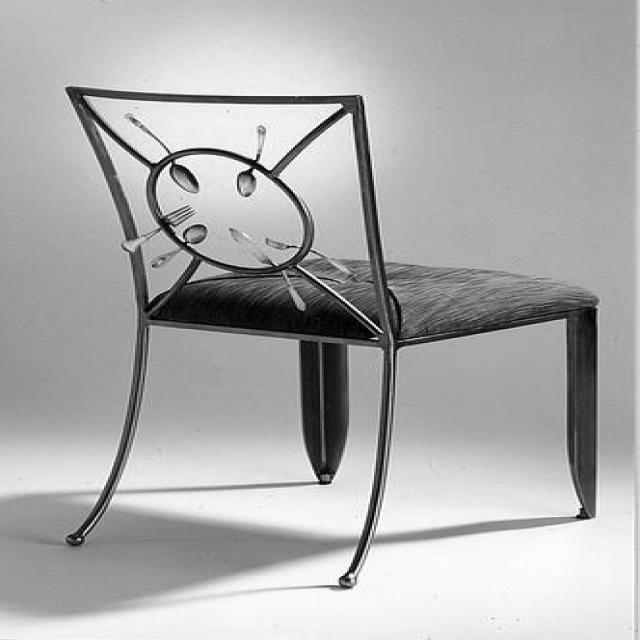chair: (62, 84, 604, 587)
